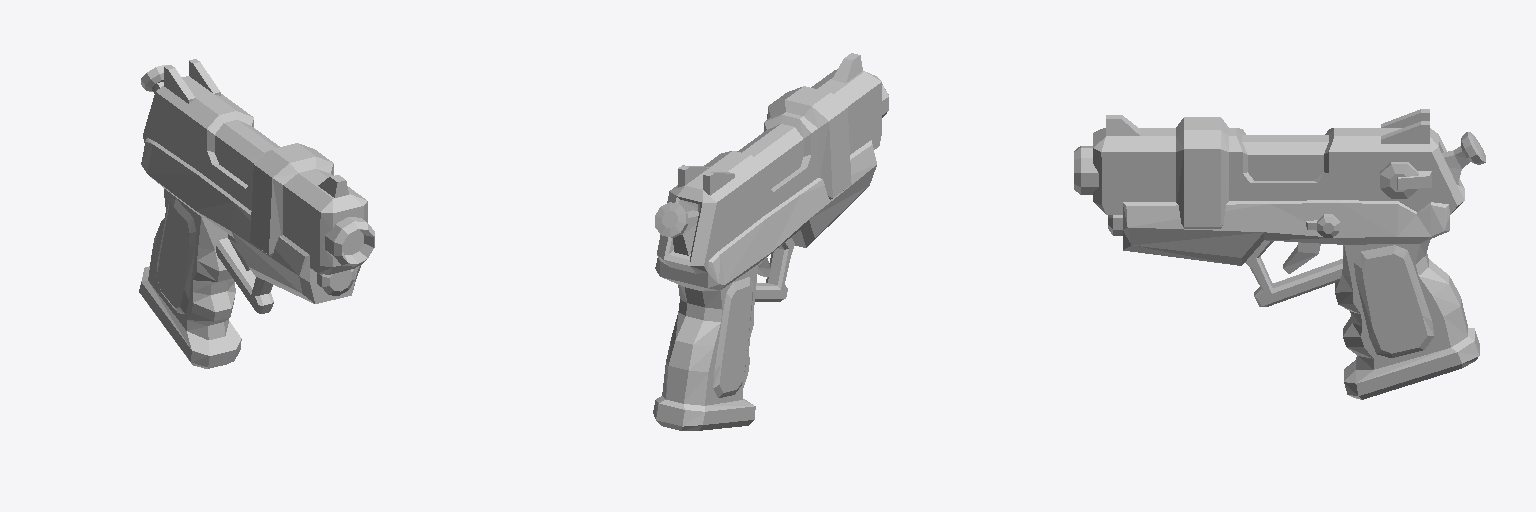
File: Pistol_Low.obj
3 renders of one model, left to right at view 1: azimuth 30°, elevation 25°; view 2: azimuth 150°, elevation 25°; view 3: azimuth 270°, elevation 25°, orthographic.
Parts seen in each view (by area): view 1: Pistol_body, Pistol_bolt, Pistol_bullet_window; view 2: Pistol_body, Pistol_bolt, Pistol_bullet_window; view 3: Pistol_body, Pistol_bolt, Pistol_bullet_window, Pistol_trigger.
Boxes of the visible parts, x1,y1,x2,y2 form: Pistol_body: [139, 65, 374, 368]; Pistol_bolt: [143, 59, 367, 274]; Pistol_bullet_window: [215, 120, 279, 184]; Pistol_body: [653, 84, 888, 430]; Pistol_bolt: [657, 53, 881, 273]; Pistol_bullet_window: [737, 124, 803, 188]; Pistol_body: [1074, 117, 1485, 399]; Pistol_bolt: [1093, 109, 1464, 214]; Pistol_bullet_window: [1242, 135, 1328, 180]; Pistol_trigger: [1283, 242, 1320, 273].
Bounding box in the file's own units: 2.43 × 9.1 × 12.27.